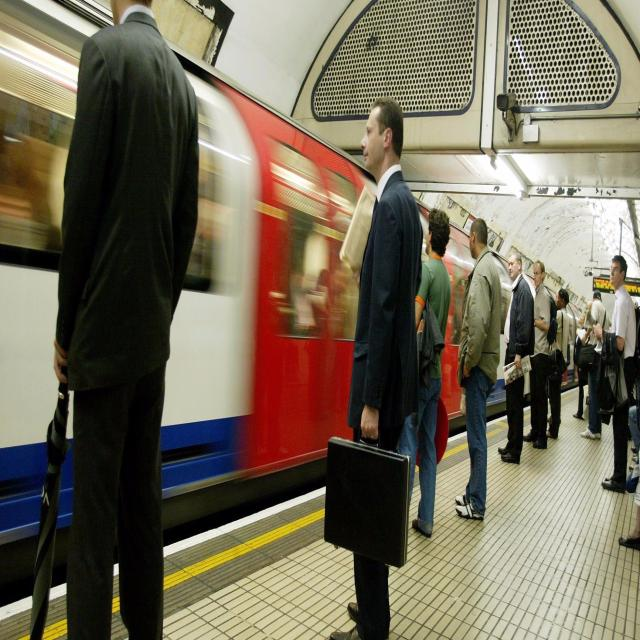body: (10, 0, 203, 640), (316, 96, 428, 640), (396, 205, 454, 538), (452, 214, 505, 522), (278, 178, 362, 341), (591, 252, 637, 495), (496, 248, 536, 466), (520, 256, 560, 453), (617, 295, 640, 555), (579, 289, 611, 441), (545, 288, 570, 439), (572, 307, 591, 422), (546, 288, 562, 424), (585, 298, 592, 313)
